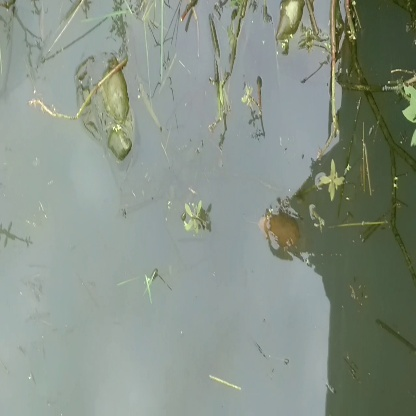plastic-bag: (72, 53, 149, 165)
